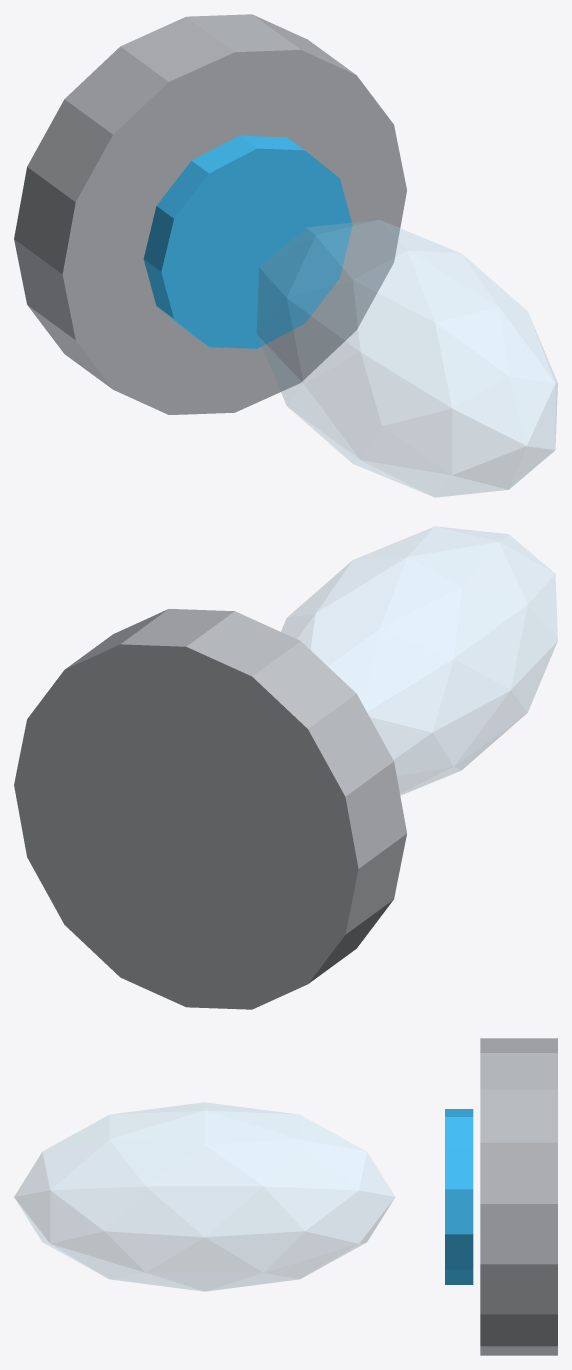
Rendered from hologram_projector.glb.
3 views of the same model, one above another, from view 1: azimuth 30°, elevation 25°; view 2: azimuth 150°, elevation 25°; view 3: azimuth 270°, elevation 25° (orthographic). The views are drawn at different scales.
Parts seen in each view (by area): view 1: base, holo, lens; view 2: base, holo; view 3: holo, base, lens.
Part boxes in pixels (box(x1,y1,x2,y2)): base: box(14, 14, 406, 414); holo: box(257, 220, 557, 497); lens: box(143, 135, 352, 348); base: box(14, 609, 406, 1009); holo: box(281, 526, 557, 795); holo: box(14, 1102, 394, 1291); base: box(480, 1038, 557, 1355); lens: box(445, 1109, 473, 1284).
Size of the model in its own units: 0.9 by 0.9 by 1.54.
